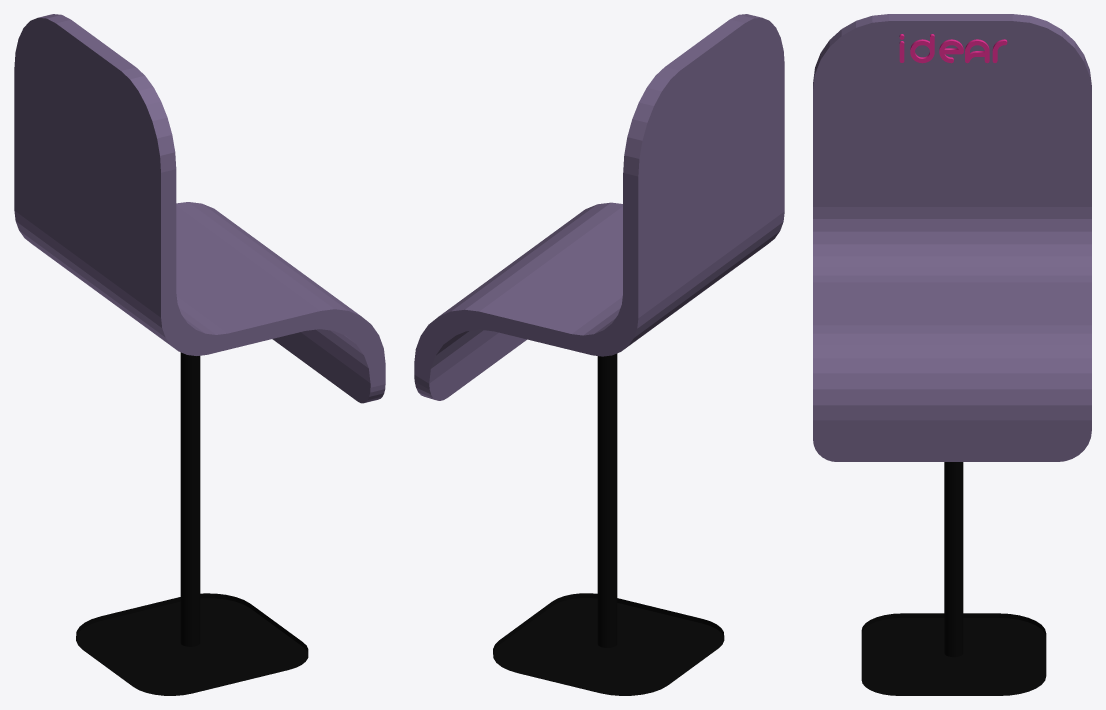
Rendered from Chair 3.fbx.
3 renders of one model, left to right at view 1: azimuth 30°, elevation 25°; view 2: azimuth 150°, elevation 25°; view 3: azimuth 270°, elevation 25°, orthographic. The views are drawn at different scales.
Visible parts, largest first — view 1: Text.008; view 2: Text.008; view 3: Text.008.
Part boxes in pixels (x1=…): Text.008: x1=14, y1=14, x2=385, y2=695; Text.008: x1=414, y1=14, x2=784, y2=695; Text.008: x1=813, y1=14, x2=1091, y2=695.
Size of the model in its own units: 58.79 by 157 by 66.51.
